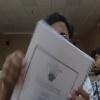notebook: (8, 18, 95, 99)
